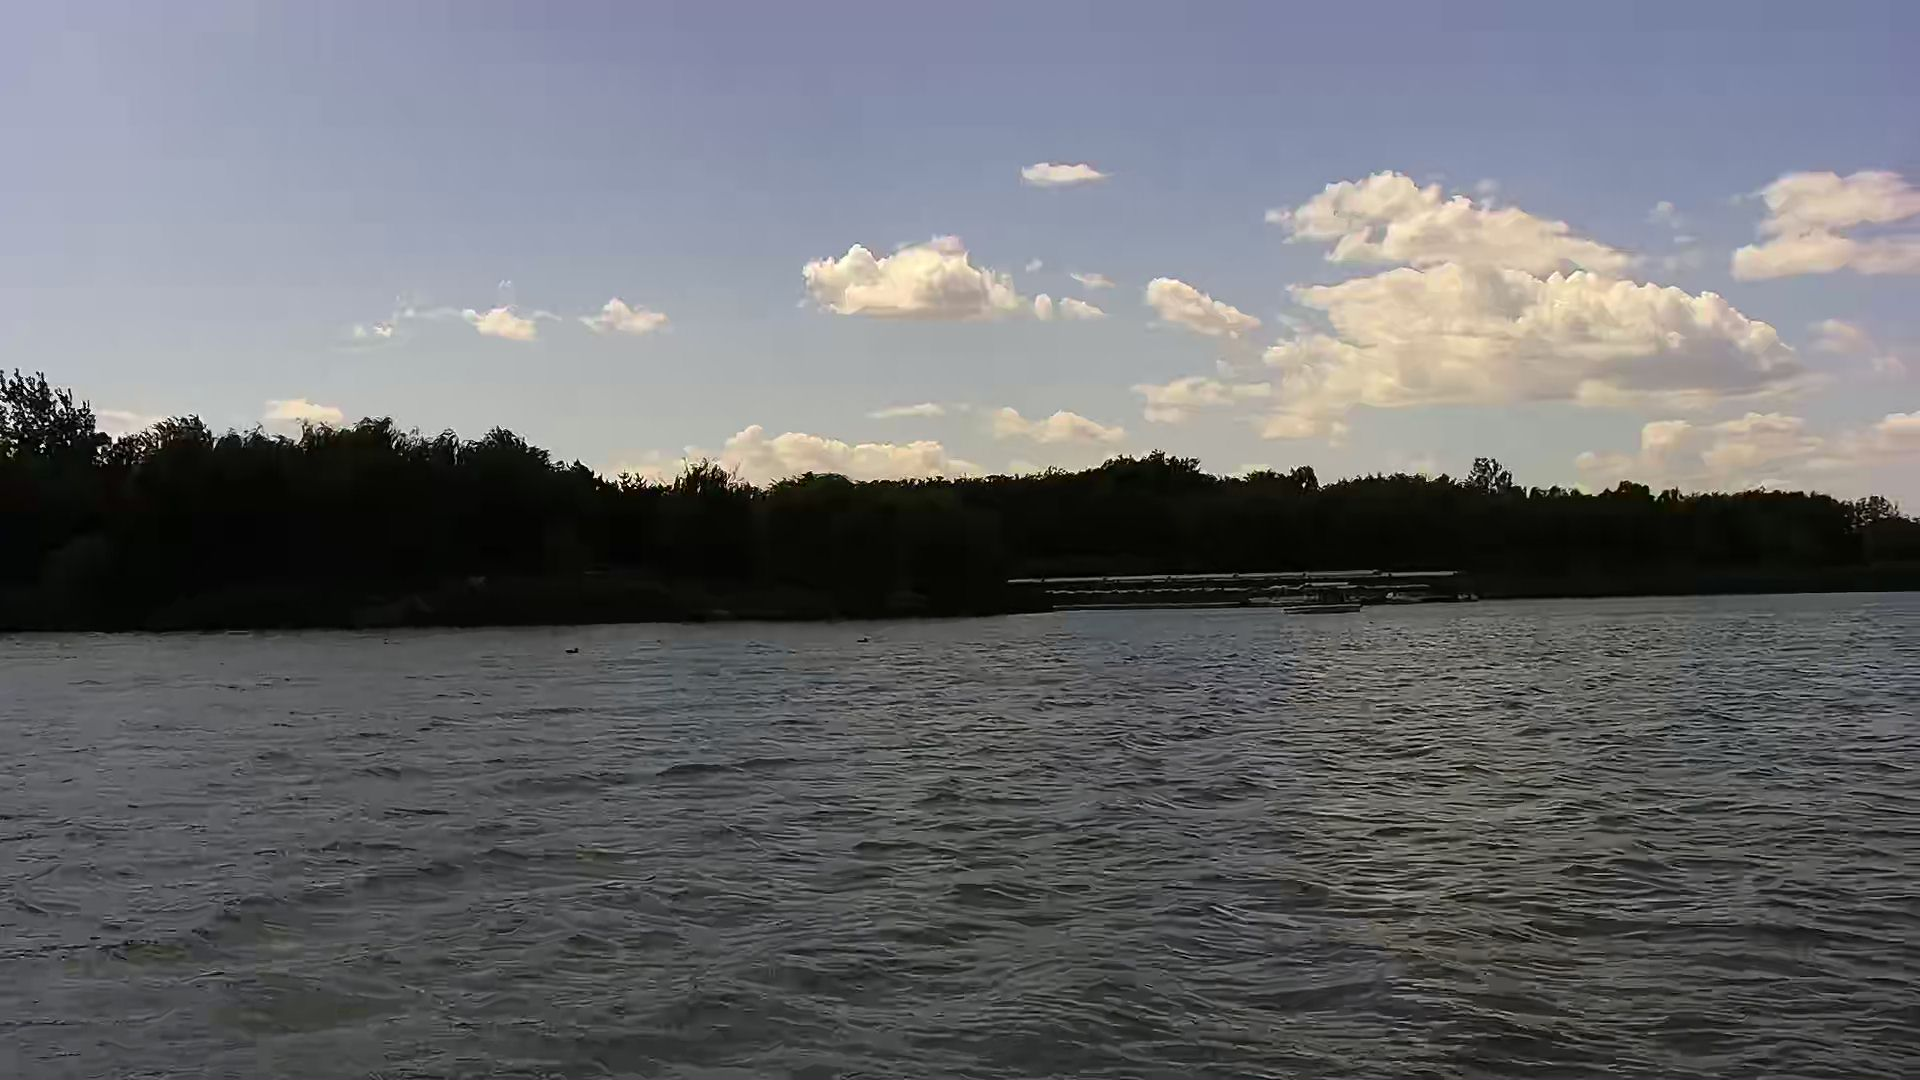boat: (1284, 575, 1366, 620)
harbor: (1002, 568, 1477, 613)
